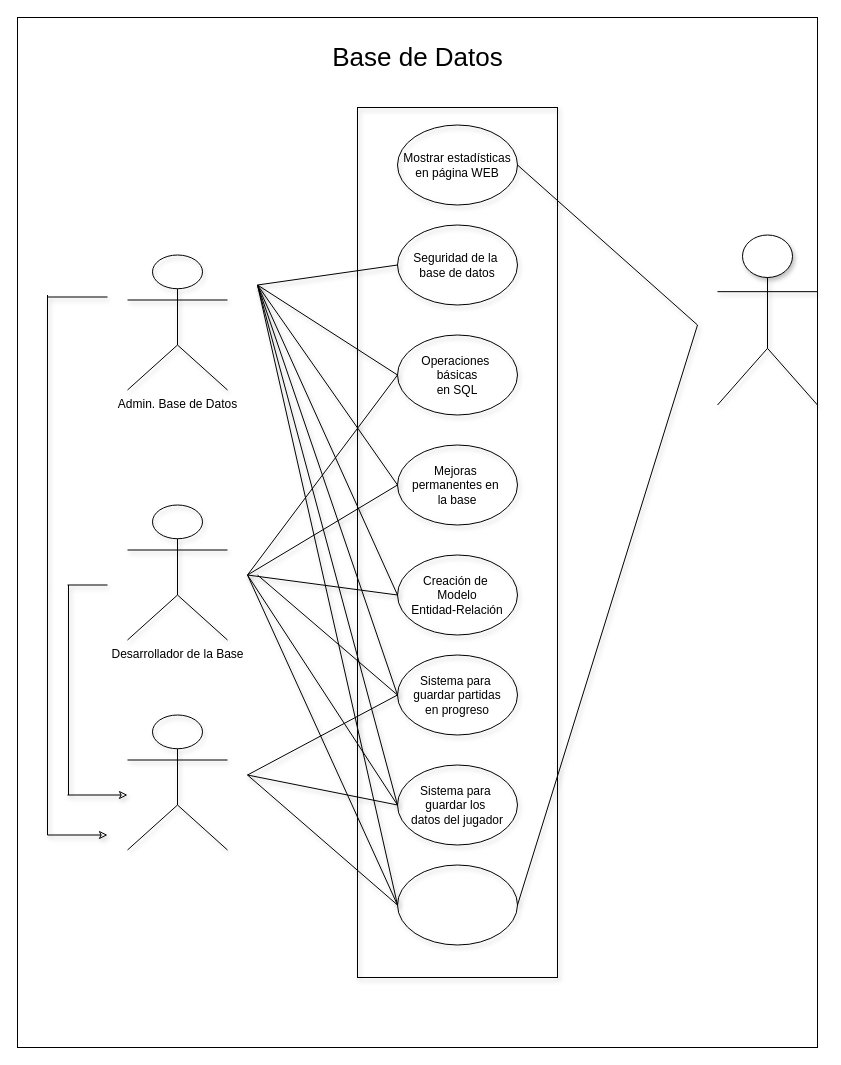
The diagram is 841 pixels wide and 1065 high, and some of its shapes have lost their labels. The shapes that lost their labels are listed below. From the top down, each one's centre as x and y in pixels, then its label:
At (x=768, y=321): "Servidor Web".
At (x=178, y=783): "Jugador".
At (x=458, y=906): "Sistema para mostrar estadísticas".
